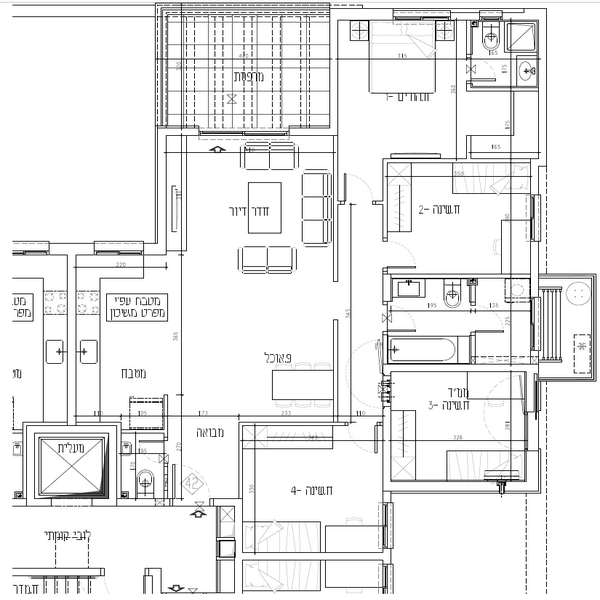room: (156, 130, 343, 279), (384, 365, 547, 494)
